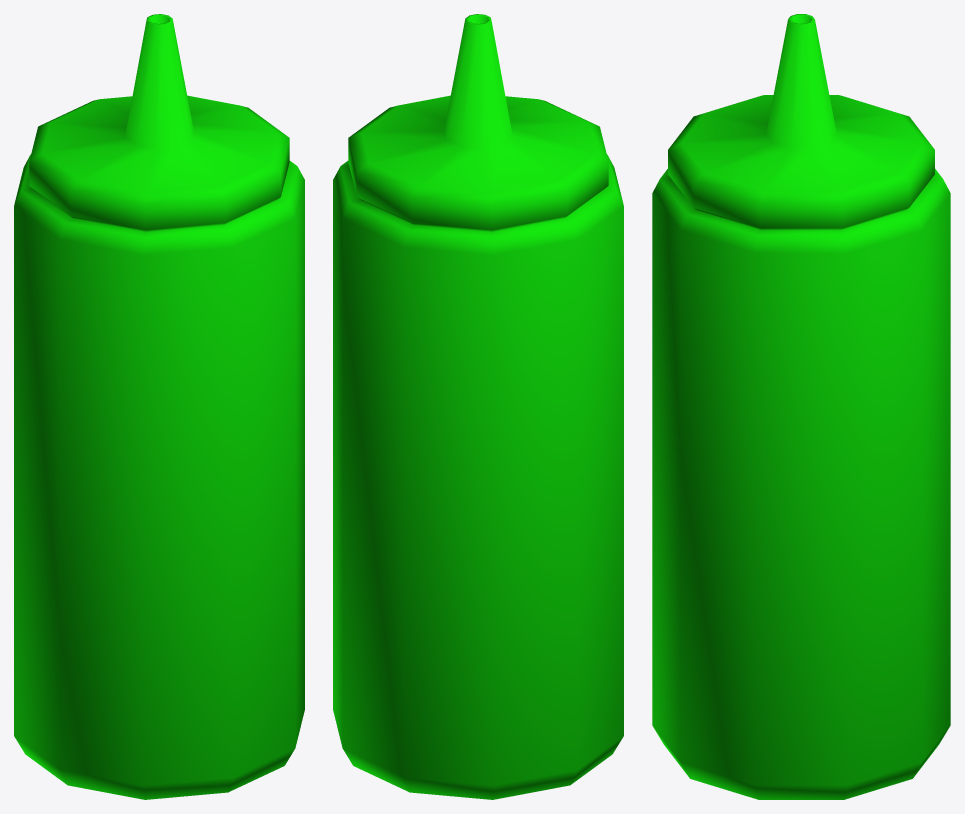
Rendered from Lime Bottle.fbx.
3 views of the same model, side by side, from view 1: azimuth 30°, elevation 25°; view 2: azimuth 150°, elevation 25°; view 3: azimuth 270°, elevation 25° (orthographic).
Visible parts, largest first — view 1: Lime Sauce; view 2: Lime Sauce; view 3: Lime Sauce.
Boxes of the visible parts, <box> form: Lime Sauce: <box>14,14,304,799</box>; Lime Sauce: <box>333,14,623,799</box>; Lime Sauce: <box>652,14,950,799</box>.
Size of the model in its own units: 12.98 by 36.6 by 13.65.
